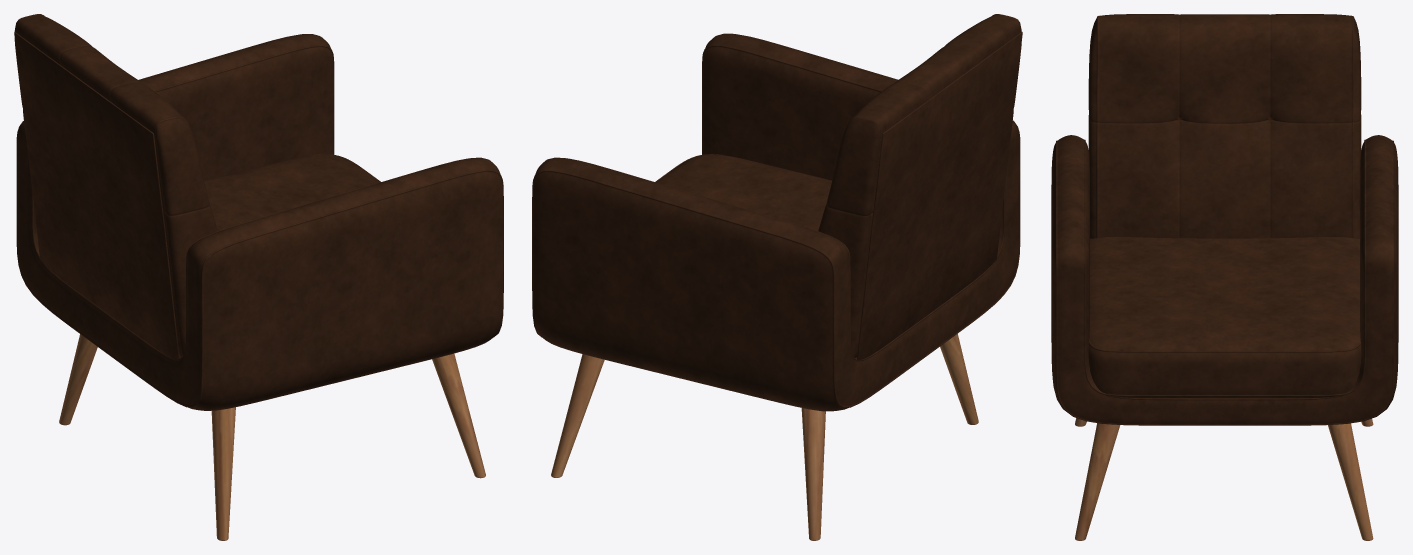
The model's file is armchair__leather.glb.
The picture shows the model from 3 angles, left to right: view 1: azimuth 30°, elevation 25°; view 2: azimuth 150°, elevation 25°; view 3: azimuth 270°, elevation 25°; orthographic projection. The views are drawn at different scales.
Visible parts, largest first — view 1: Plane.001; view 2: Plane.001; view 3: Plane.001.
Part boxes in pixels (x1=…): Plane.001: x1=14, y1=14, x2=503, y2=540; Plane.001: x1=532, y1=14, x2=1022, y2=540; Plane.001: x1=1051, y1=14, x2=1398, y2=540.
Bounding box in the file's own units: 0.6985 × 0.856 × 0.696.
1 material, 1 textured.
